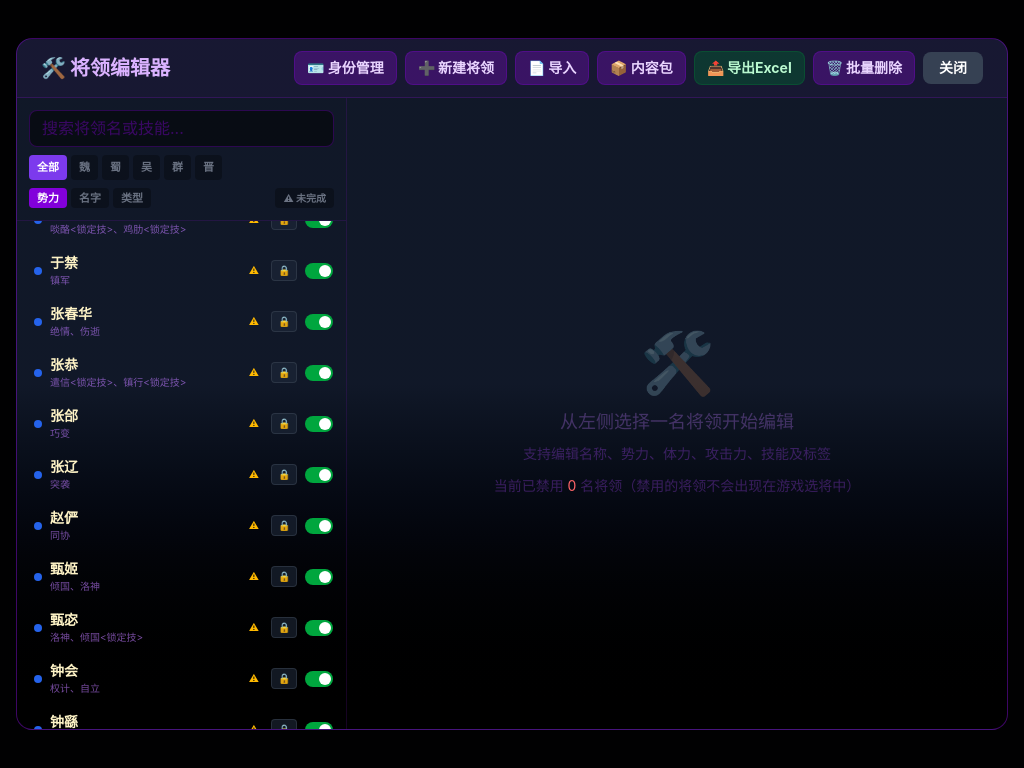
Test: 两段式流程：① 将领身份 → 确认 → ② 技能编辑 › 「🪄 一句话生成将领」采用＝只往那六格里填字，一个字都不落档
(page scrolled)
Click the button "张辽 突袭 ⚠": (146, 475) x1=26 y1=451 x2=267 y2=498
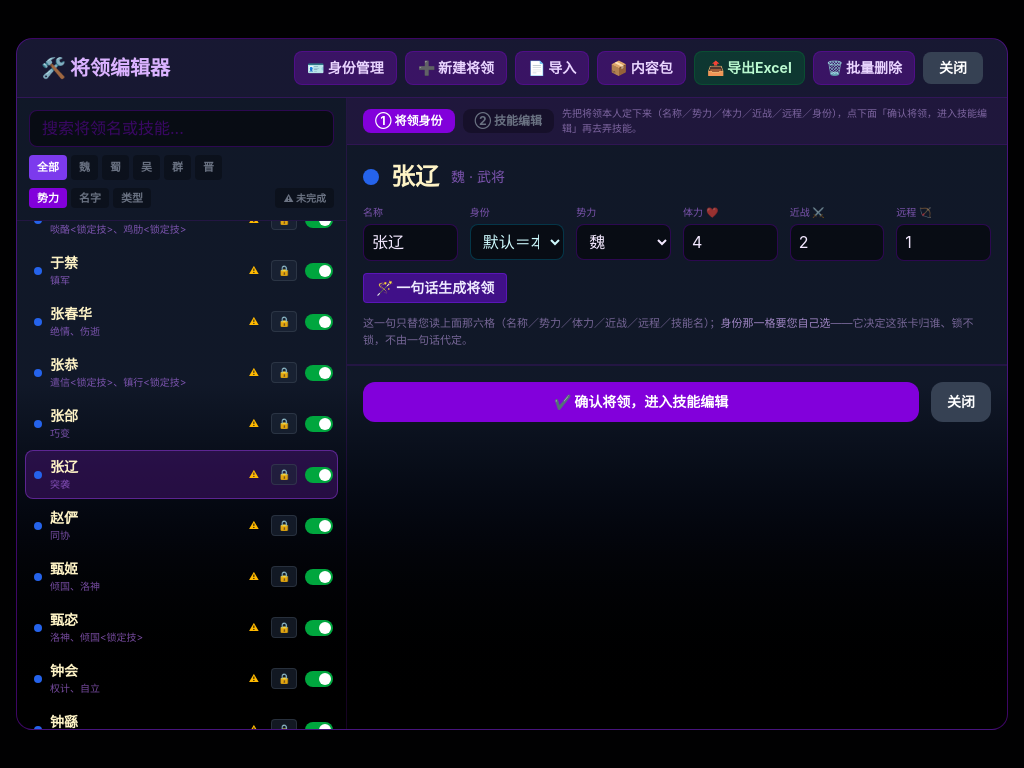
Click the button "🪄 一句话生成将领": (435, 288) x1=363 y1=273 x2=507 y2=303
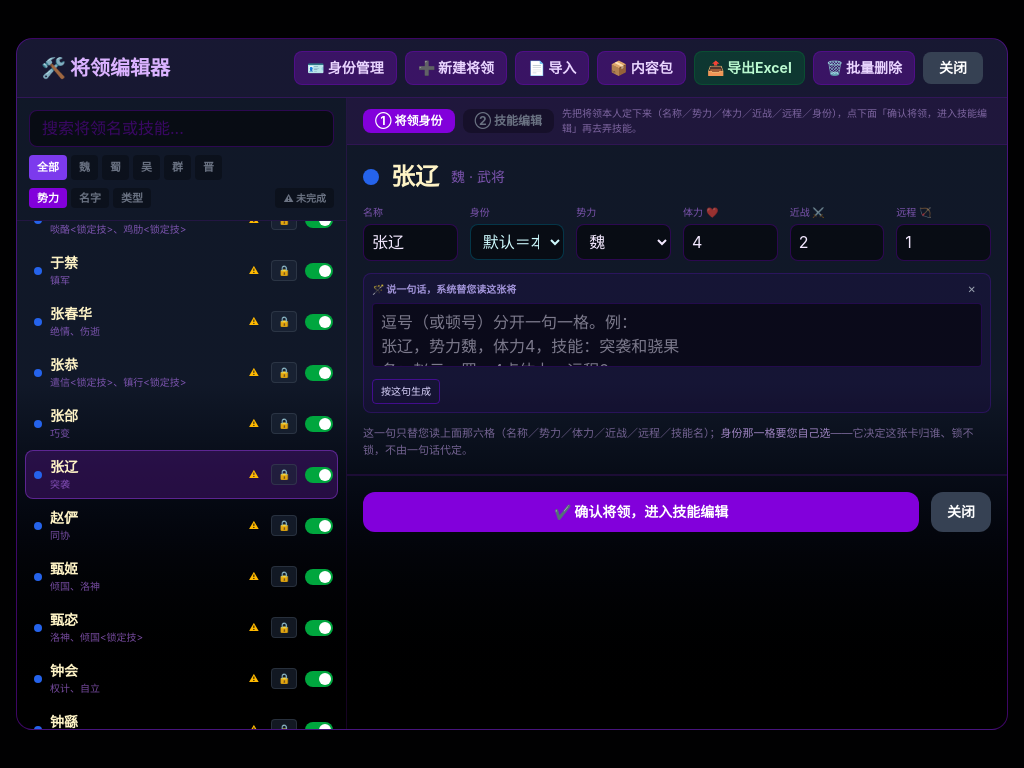
Replace the text in the text box named "一句话生成将领" with "名：张辽文远，势力：魏，体力5，近战3": (677, 335) x1=372 y1=303 x2=982 y2=367
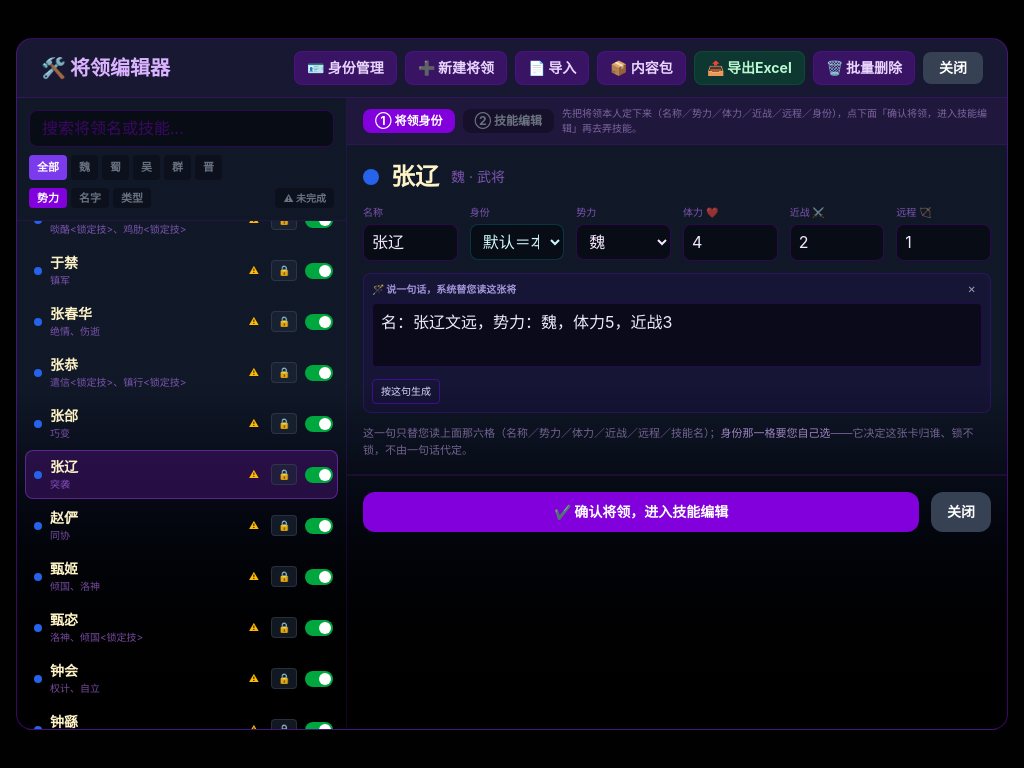
Click the button "按这句生成": (406, 392) x1=372 y1=379 x2=440 y2=404
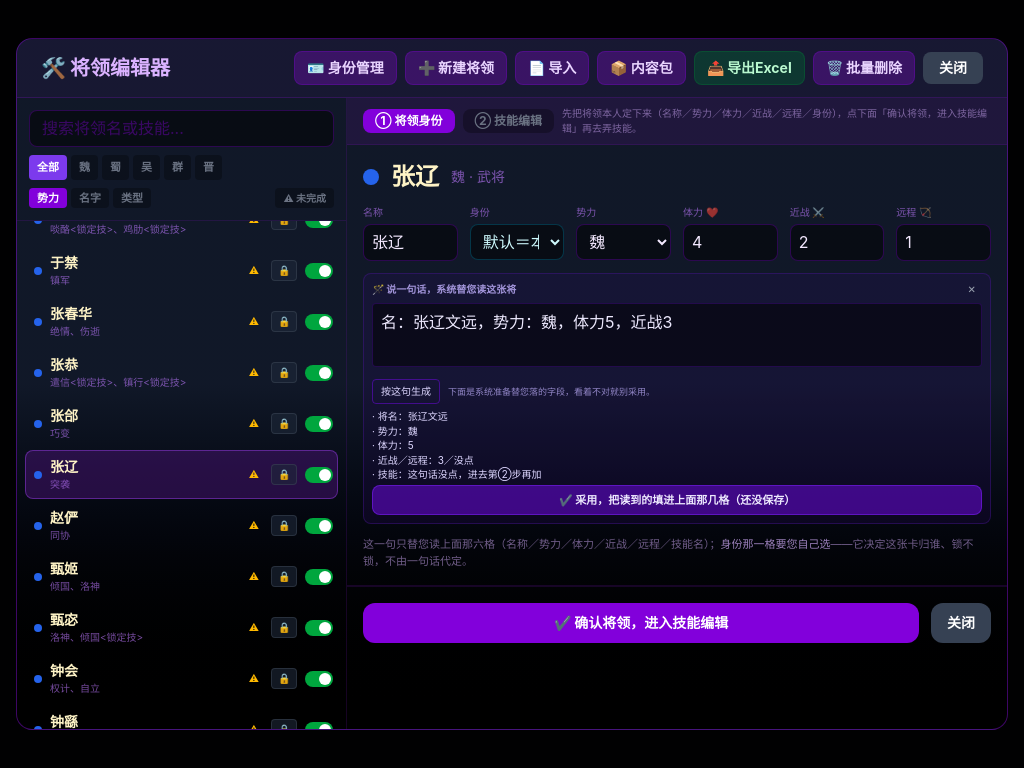
Click the button "✔ 采用，把读到的填进上面那几格（还没保存）": (677, 500) x1=372 y1=485 x2=982 y2=515
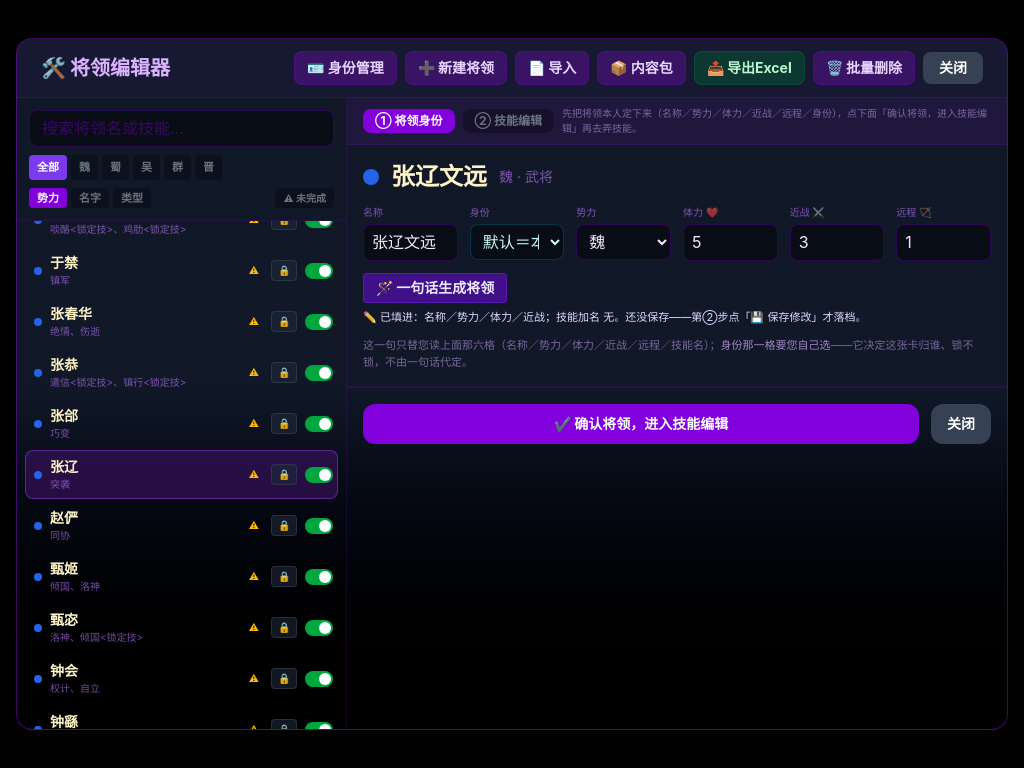
expect the heading "张辽文远" is shown: met, box x1=391 y1=161 x2=487 y2=193
expect the text "✏️ 已填进：名称／势力／体力／近战；技能加名 无。还没保存——第②步点「💾 保存修改」才落档。" is shown: met, box x1=363 y1=310 x2=867 y2=324
